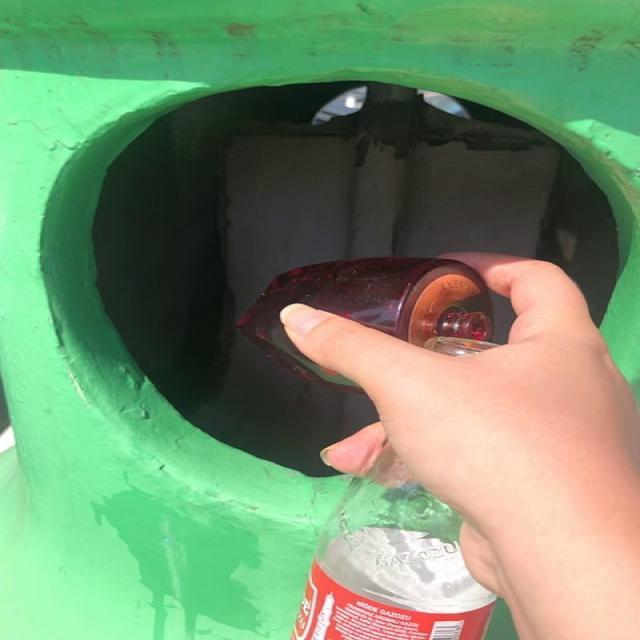Glass: (292, 440, 497, 640), (239, 258, 495, 390), (239, 258, 493, 390)
